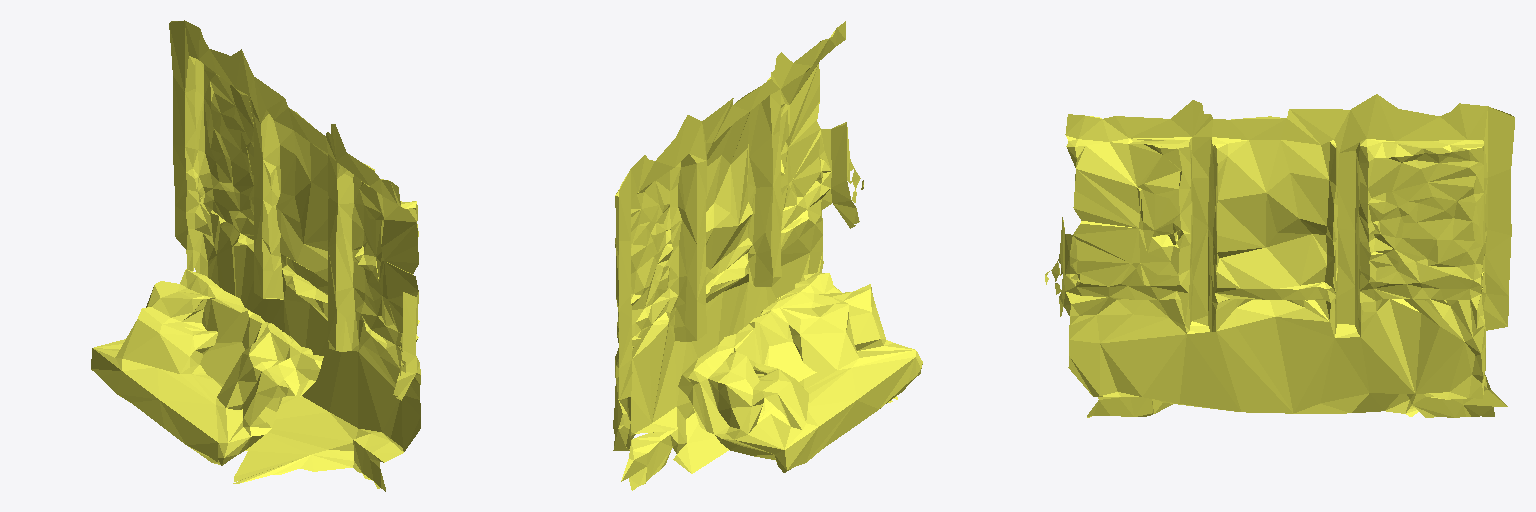
The robot description file, URDF, robot "env.urdf":
<?xml version="0.0" ?>
<robot name="env.urdf">
  <link name="baseLink">
    <contact>
      <lateral_friction value="1.0"/>
      <rolling_friction value="0.0"/>
      <contact_cfm value="0.0"/>
      <contact_erp value="1.0"/>
    </contact>
    <inertial>
      <origin rpy="0 0 0" xyz="0.0 0.02 0.0"/>
       <mass value="0"/>
       <inertia ixx="1" ixy="0" ixz="0" iyy="1" iyz="0" izz="1"/>
    </inertial>
    <visual>
      <origin rpy="0 0 0" xyz="0 0 0"/>
      <geometry>
        <mesh filename="couch_wall.obj" scale="1 1 1"/>
      </geometry>
       <material name="yellow">
        <color rgba="1 1 0.4 1"/>
      </material>
    </visual>
    <collision>
      <origin rpy="0 0 0" xyz="0 0 0"/>
      <geometry>
	 	<mesh filename="couch_wall.obj" scale="1 1 1"/>
      </geometry>
    </collision>
  </link>
</robot>

--- Render facts (derived) ---
3 views of the same robot in one strip: view 1: azimuth 30°, elevation 25°; view 2: azimuth 150°, elevation 25°; view 3: azimuth 270°, elevation 25° (orthographic).
Model env.urdf with 1 links and 0 joints (none), rooted at baseLink, posed all joints at 0.
Links seen in each view (by area): view 1: baseLink; view 2: baseLink; view 3: baseLink.
Boxes of the visible links, x1,y1,x2,y2 form: baseLink: (91, 20, 420, 491); baseLink: (613, 21, 922, 490); baseLink: (1045, 94, 1514, 417).
Size in the robot's own frame: 1.15 by 3.15 by 2.42 metres.
1 mesh visuals loaded from 1 distinct referenced files (1 OBJ).